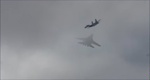maybay_muctieu: (85, 18, 100, 28)
